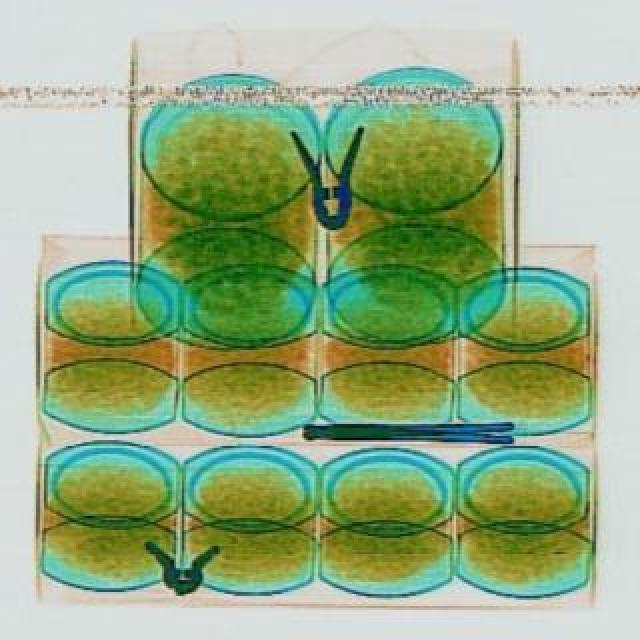wrench: (286, 124, 366, 230), (300, 418, 510, 446)
